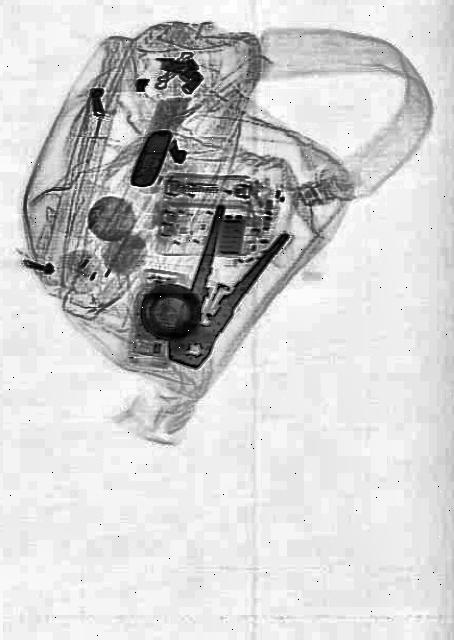Pliers: (152, 186, 292, 394)
